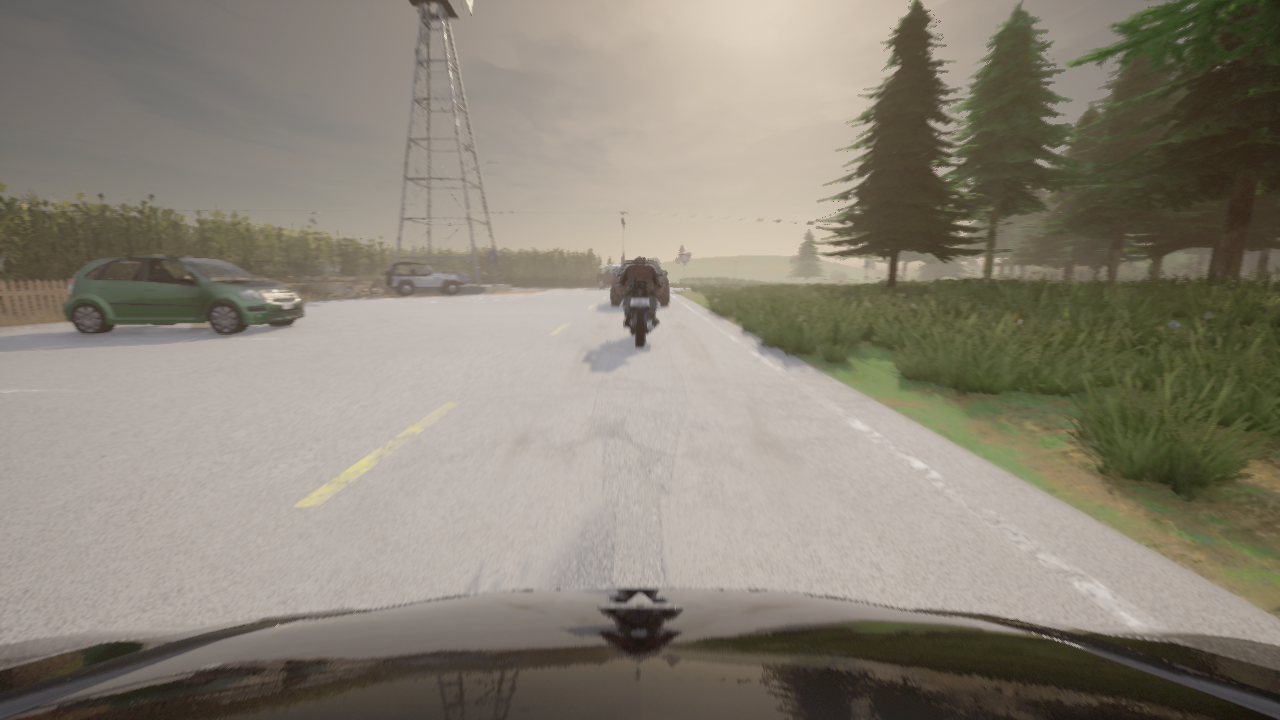cyclist: (0, 588, 1279, 719), (63, 255, 305, 333), (617, 274, 662, 346), (385, 261, 463, 295), (611, 261, 668, 305), (596, 264, 621, 288), (438, 271, 468, 283)
